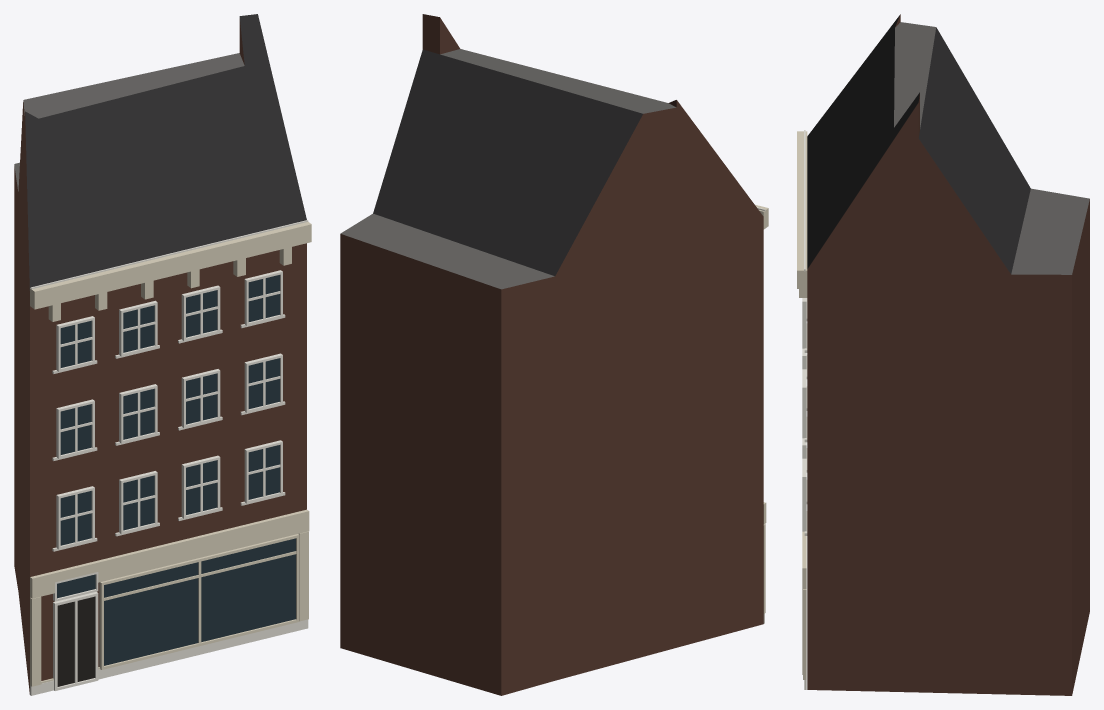
The picture shows the model from 3 angles, left to right: view 1: azimuth 30°, elevation 25°; view 2: azimuth 150°, elevation 25°; view 3: azimuth 270°, elevation 25°; orthographic projection. The views are drawn at different scales.
Parts seen in each view (by area): view 1: spec-0363100012177939; view 2: spec-0363100012177939; view 3: spec-0363100012177939.
Part boxes in pixels (x1,y1,x2,y2): spec-0363100012177939: (14,14,311,695); spec-0363100012177939: (340,14,768,695); spec-0363100012177939: (797,14,1089,695).
Bounding box in the file's own units: 9.34 × 17.72 × 7.95.
